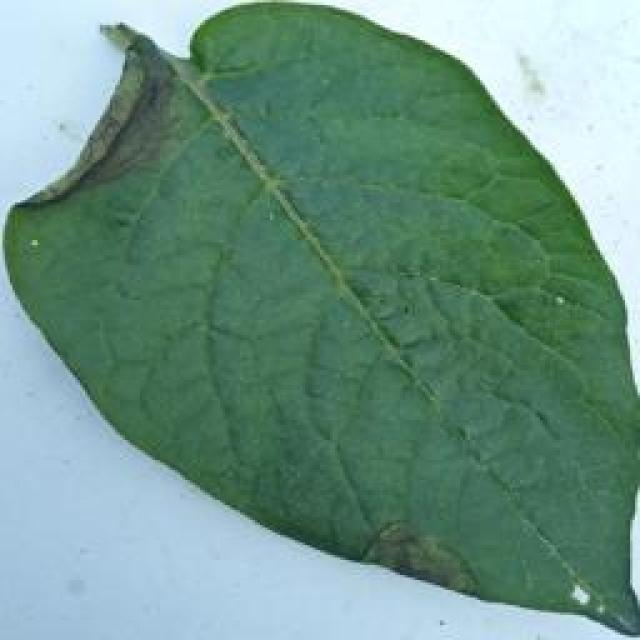Potato_Late_Blight: (10, 7, 628, 629)
